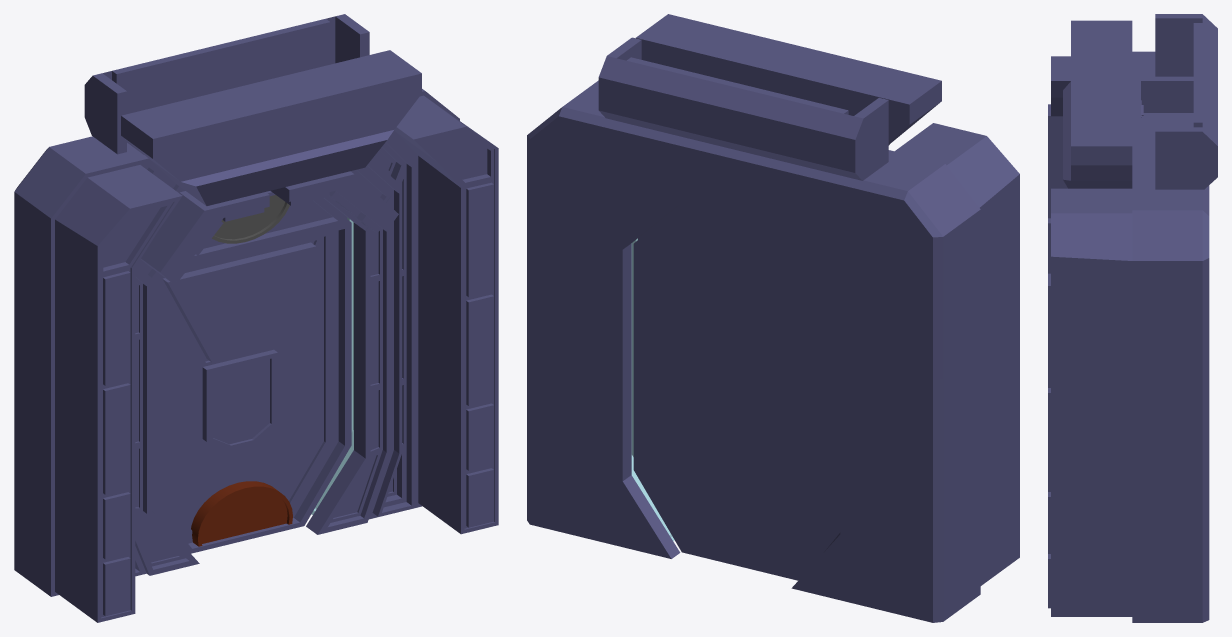
The model's file is door.glb.
The picture shows the model from 3 angles, left to right: view 1: azimuth 30°, elevation 25°; view 2: azimuth 150°, elevation 25°; view 3: azimuth 270°, elevation 25°; orthographic projection. The views are drawn at different scales.
Parts seen in each view (by area): view 1: doorframe, door, Cylinder.013, Cylinder.014; view 2: doorframe, door; view 3: doorframe.
Part boxes in pixels (x1,y1,x2,y2): doorframe: (14,14,498,622); door: (152,198,351,553); Cylinder.013: (191,481,292,546); Cylinder.014: (212,195,289,243); doorframe: (527,14,1019,622); door: (633,205,840,580); doorframe: (1048,14,1217,622).
Size of the model in its own units: 2.45 by 2.72 by 0.9198.
